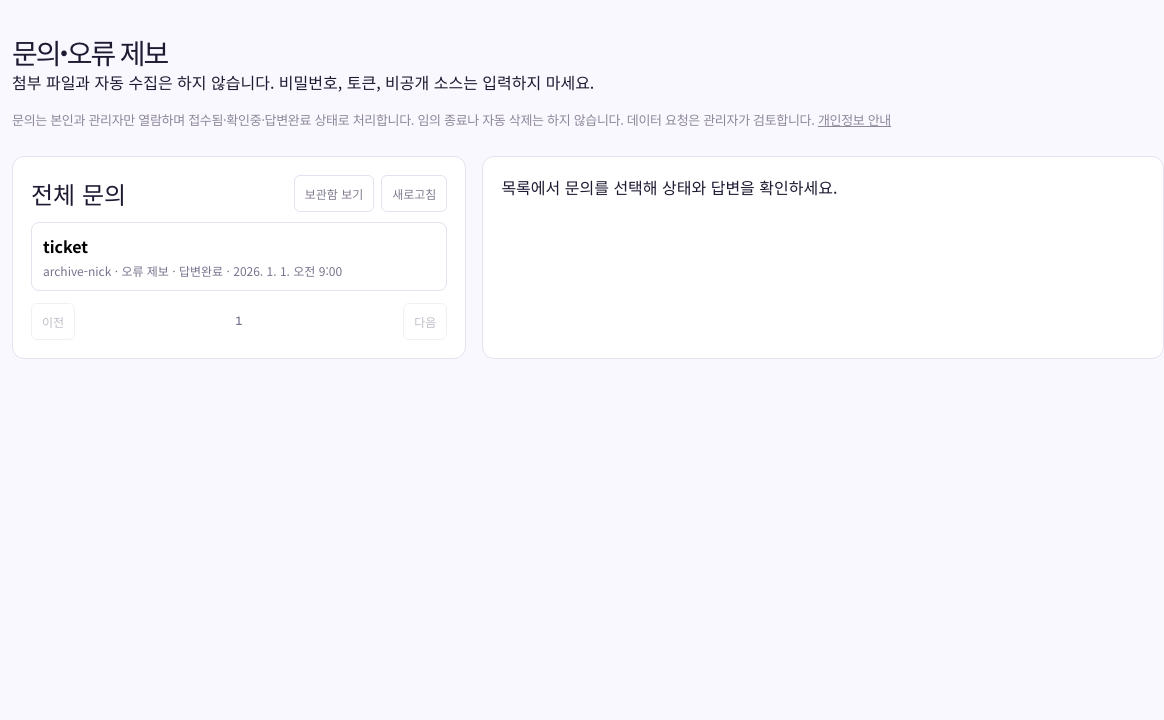
Test: SupportView › fences a failed administrator archive before it reaches the archive endpoint
Click the text "ticket" at [65, 246], box x1=43 y1=234 x2=88 y2=258
(page scrolled)
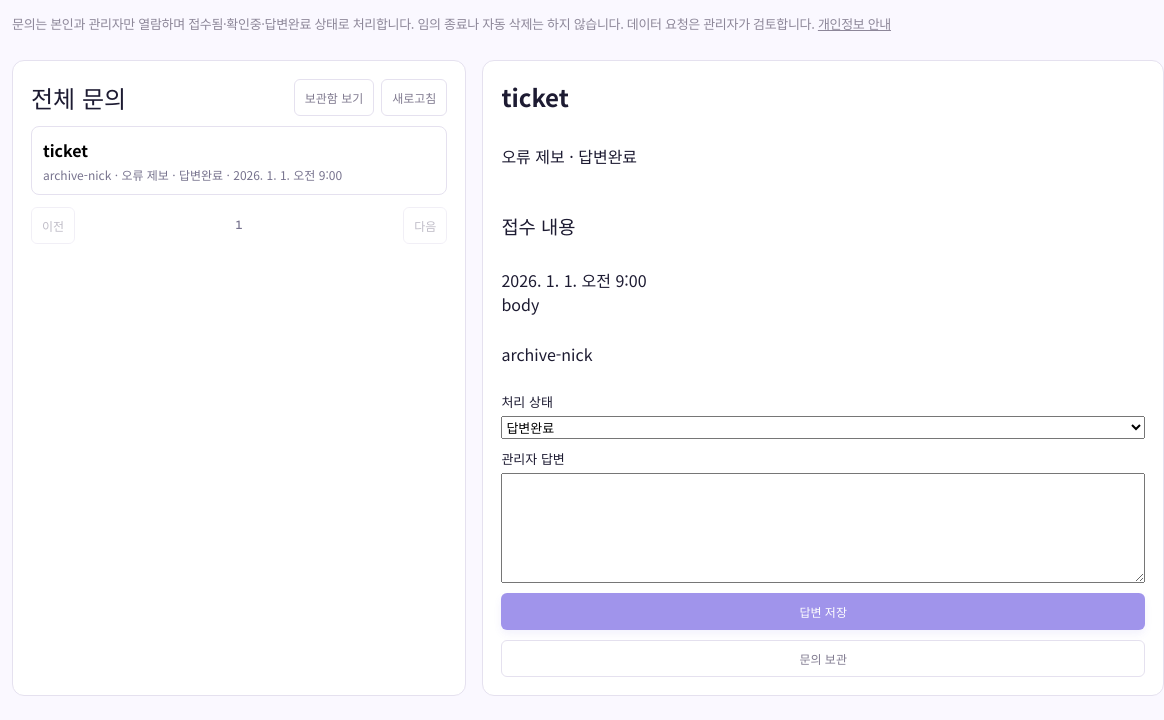
Expected: the heading "접수 내용" is shown, x1=501 y1=212 x2=576 y2=239
Click the button "문의 보관" at [823, 658], box x1=501 y1=640 x2=1145 y2=677
(page scrolled)
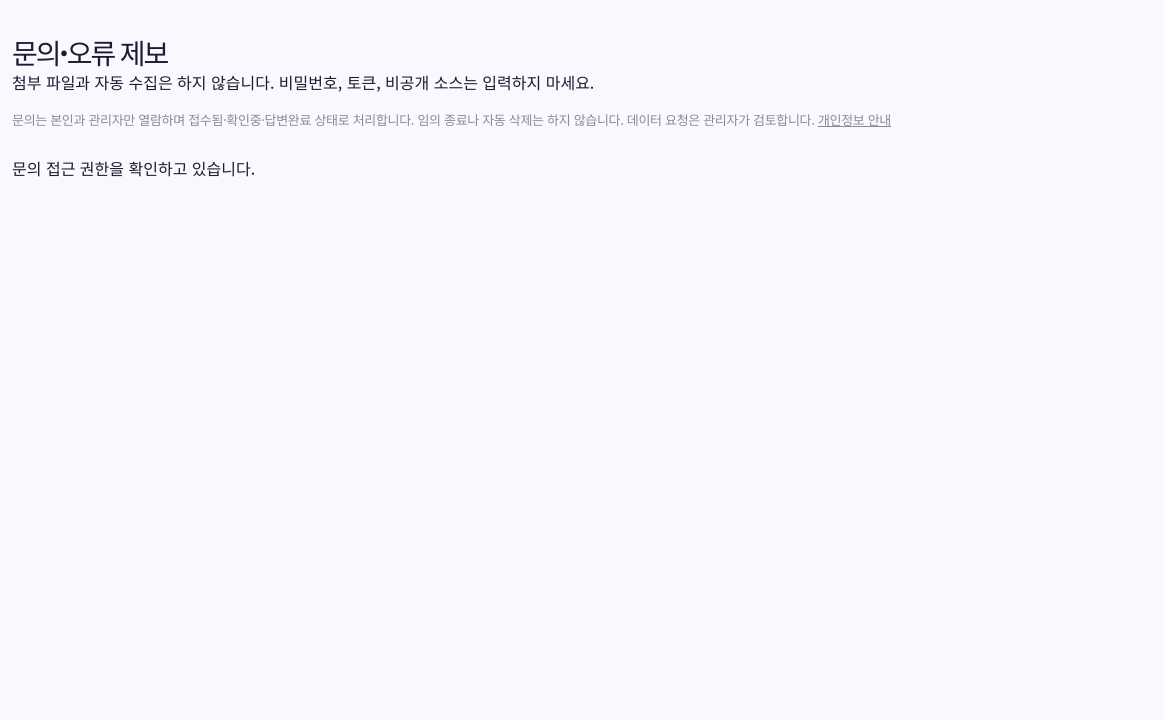
Expected: the heading "접수 내용" is gone
